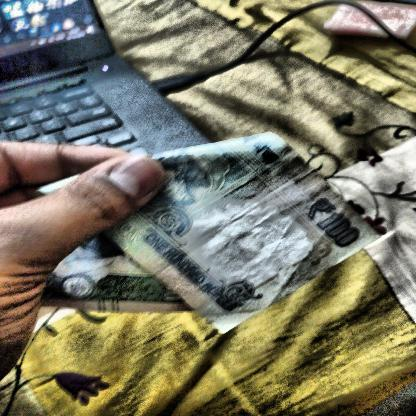Rs100: (289, 189, 374, 255)
